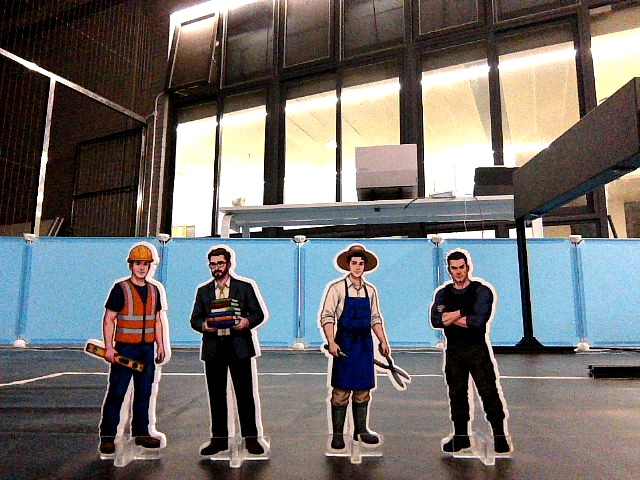community_person: (311, 237, 416, 471), (83, 235, 177, 469), (185, 236, 276, 473)
outsider: (425, 244, 518, 470)
